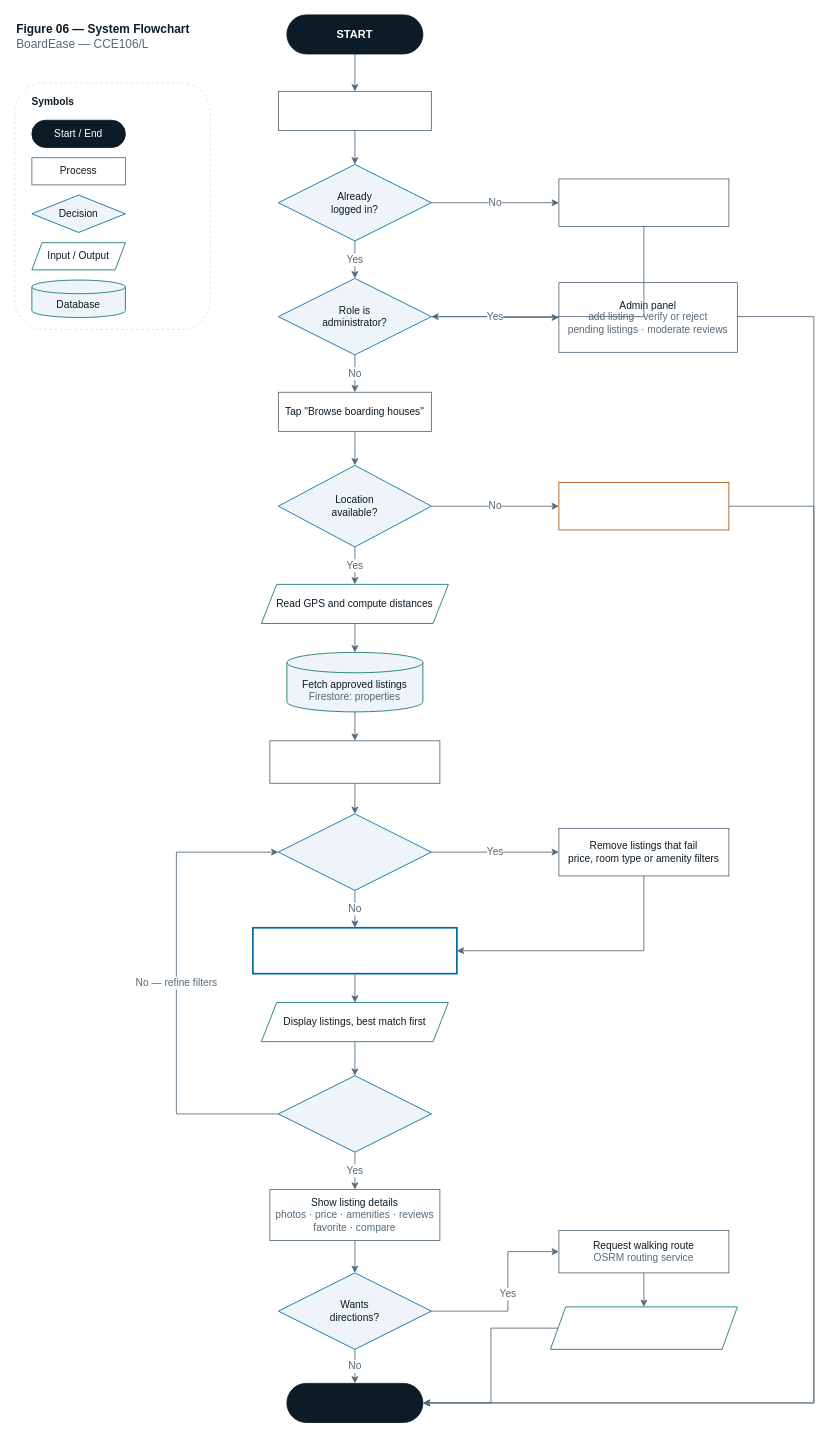
The diagram is 836 pixels wide and 1437 high, and some of its shapes have lost their labels. Each missing label, with the box of its shape:
Calculate distance to each listing Haversine formula: (269, 740, 440, 783)
Draw route on map and list turn-by-turn steps: (550, 1306, 737, 1349)
END: (286, 1383, 423, 1422)
Filters applied?: (278, 813, 431, 890)
Open BoardEase app: (278, 91, 431, 130)
Opens a listing?: (278, 1075, 431, 1152)
Score every listing out of 100 distance 40 · fits budget 30 · amenities 30: (252, 926, 457, 974)
Show landing page Register or log in Firebase Authentication: (558, 178, 729, 227)
Show message: "Location is needed to find nearby boarding houses": (558, 482, 729, 530)
